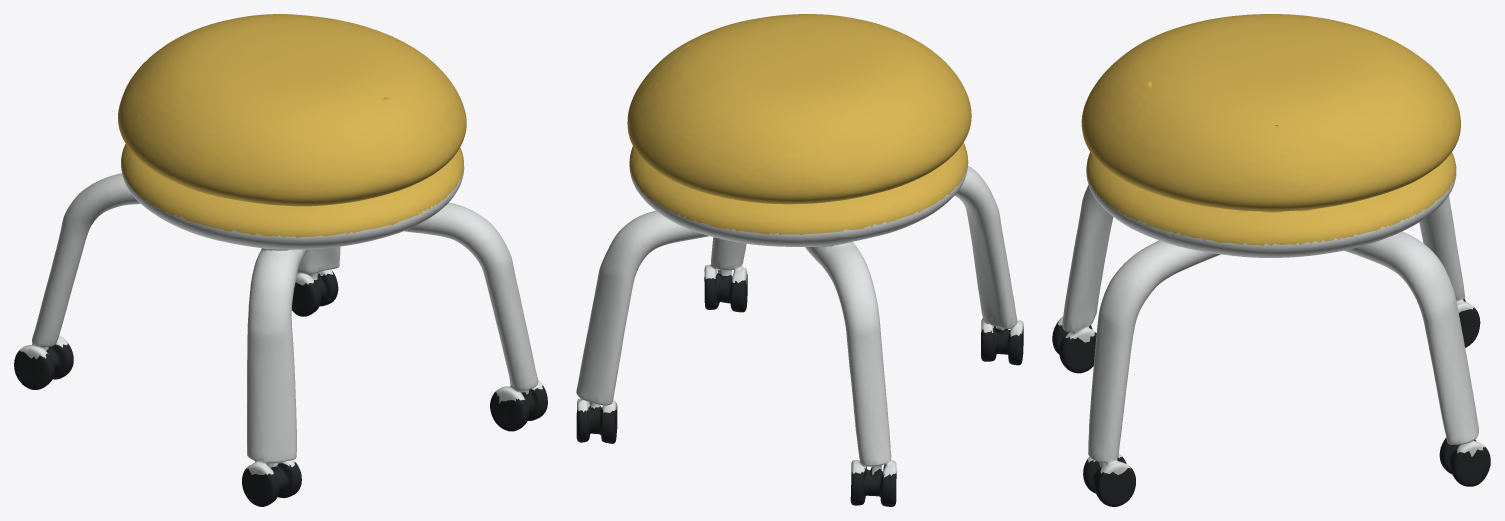
File: 36_圆凳_电话亭内部.glb
3 renders of one model, left to right at view 1: azimuth 30°, elevation 25°; view 2: azimuth 150°, elevation 25°; view 3: azimuth 270°, elevation 25°, orthographic. The views are drawn at different scales.
Visible parts, largest first — view 1: world; view 2: world; view 3: world.
Part boxes in pixels (box(x1,y1,x2,y2)): world: box(14, 14, 547, 506); world: box(576, 14, 1023, 506); world: box(1052, 14, 1490, 506).
Bounding box in the file's own units: 0.45 × 0.42 × 0.45.
